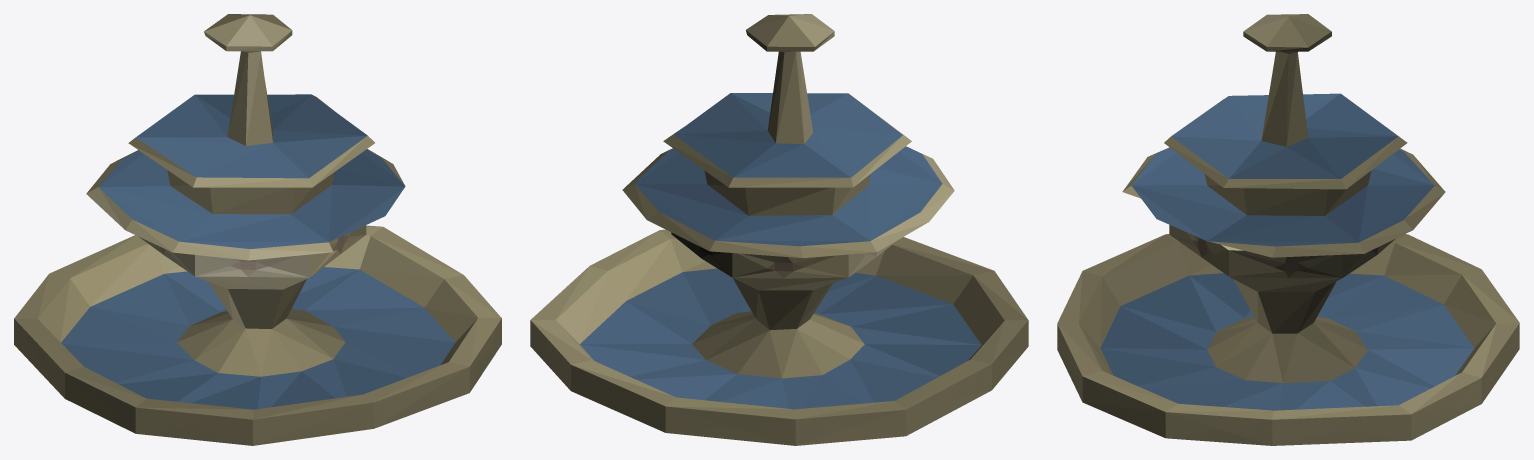
The model's file is fountain.obj.
The picture shows the model from 3 angles, left to right: view 1: azimuth 30°, elevation 25°; view 2: azimuth 150°, elevation 25°; view 3: azimuth 270°, elevation 25°; orthographic projection.
Parts seen in each view (by area): view 1: Object_Fountain_2026-09-12_20-54-55; view 2: Object_Fountain_2026-09-12_20-54-55; view 3: Object_Fountain_2026-09-12_20-54-55.
Part boxes in pixels (bbox=[...]): Object_Fountain_2026-09-12_20-54-55: bbox=[14, 14, 501, 445]; Object_Fountain_2026-09-12_20-54-55: bbox=[530, 14, 1028, 445]; Object_Fountain_2026-09-12_20-54-55: bbox=[1057, 14, 1519, 445].
Size of the model in its own units: 254 by 201 by 256.
